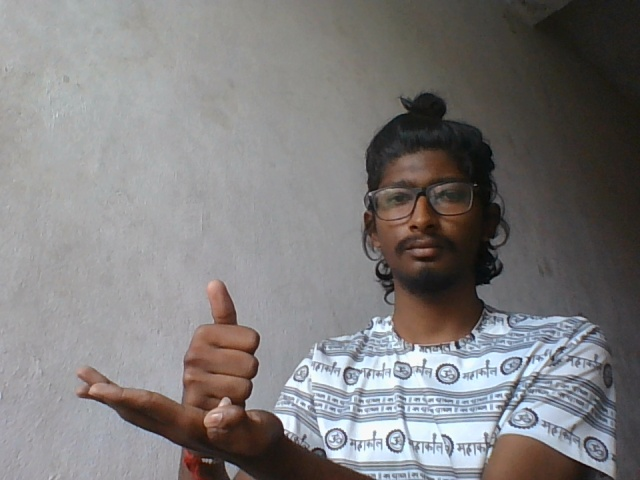Name: (69, 274, 292, 458)
